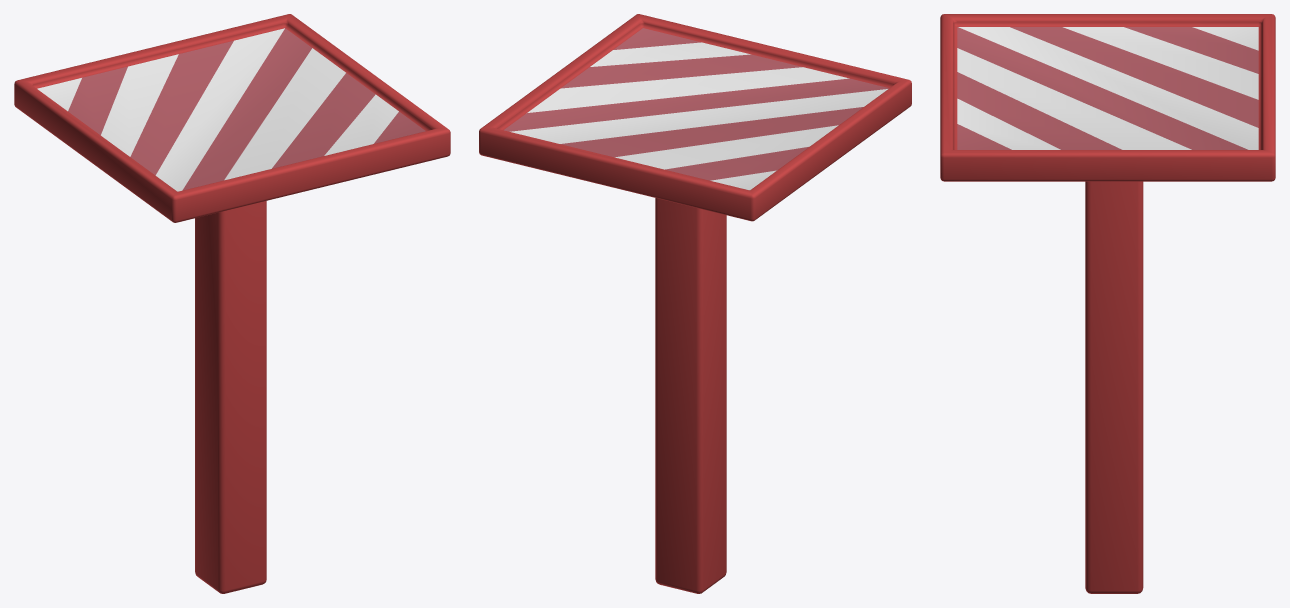
File: Elevator.gltf
3 renders of one model, left to right at view 1: azimuth 30°, elevation 25°; view 2: azimuth 150°, elevation 25°; view 3: azimuth 270°, elevation 25°, orthographic. The views are drawn at different scales.
Parts seen in each view (by area): view 1: elevador; view 2: elevador; view 3: elevador.
Part boxes in pixels (bbox=[...]): elevador: bbox=[14, 14, 450, 593]; elevador: bbox=[479, 14, 911, 593]; elevador: bbox=[940, 14, 1275, 593].
Bounding box in the file's own units: 4.07 × 6.69 × 4.07.
